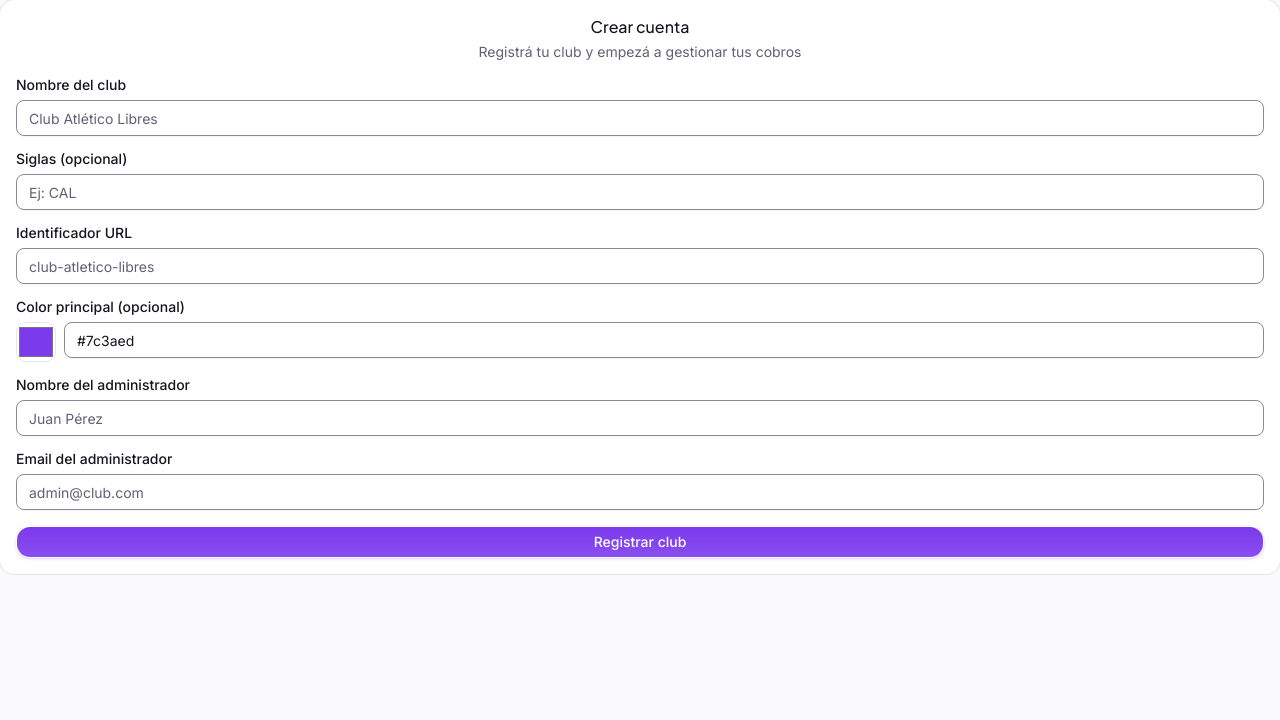
Test: RegistrationForm › shows validation errors for empty required fields
The width and height of the screenshot is (1280, 720).
What coordinates should you click on to do the following:
click the button "Registrar club"
I would click on:
 (640, 542)
Its box is [16,526,1264,558].
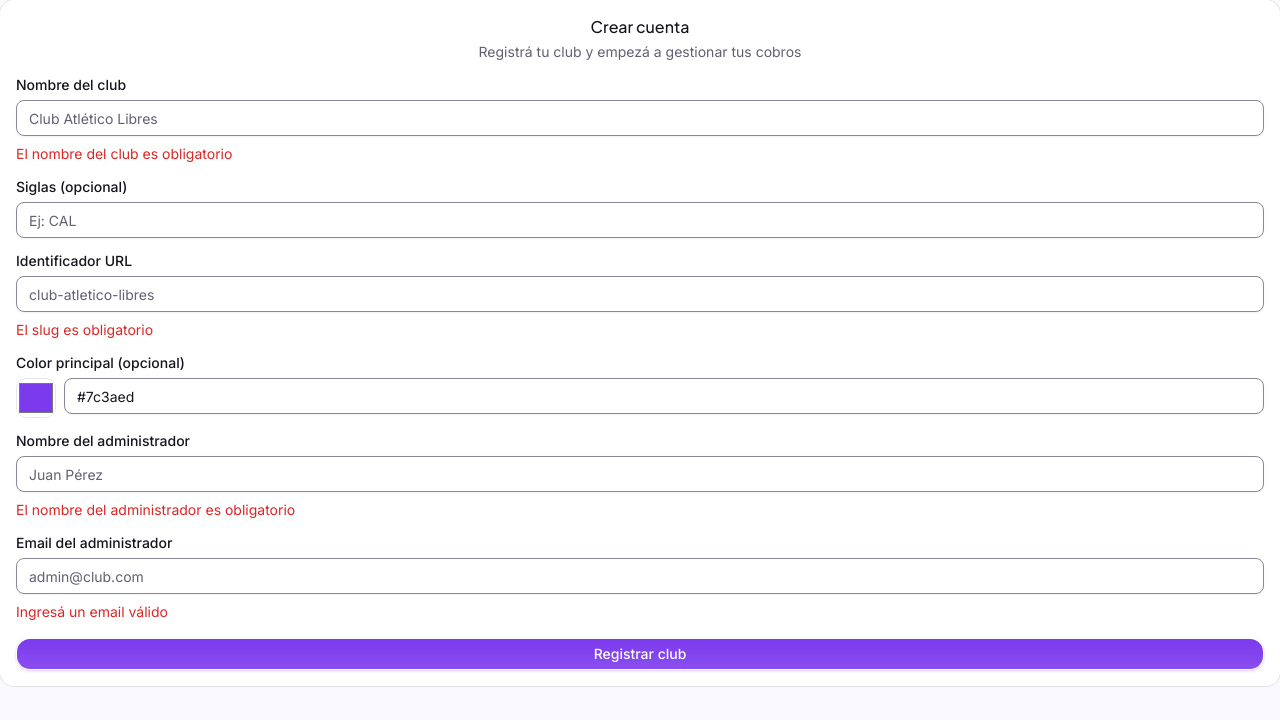
Expected: the text "El nombre del club es obligatorio" is shown, [16,145,232,162]
Expected: the text "El slug es obligatorio" is shown, [16,321,153,338]
Expected: the text "El nombre del administrador es obligatorio" is shown, [16,501,295,518]
